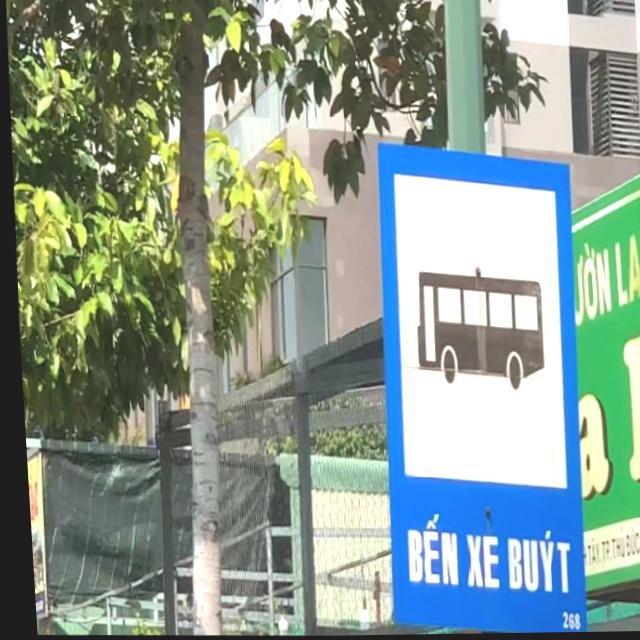Ben xe buyt: (359, 134, 593, 636)
